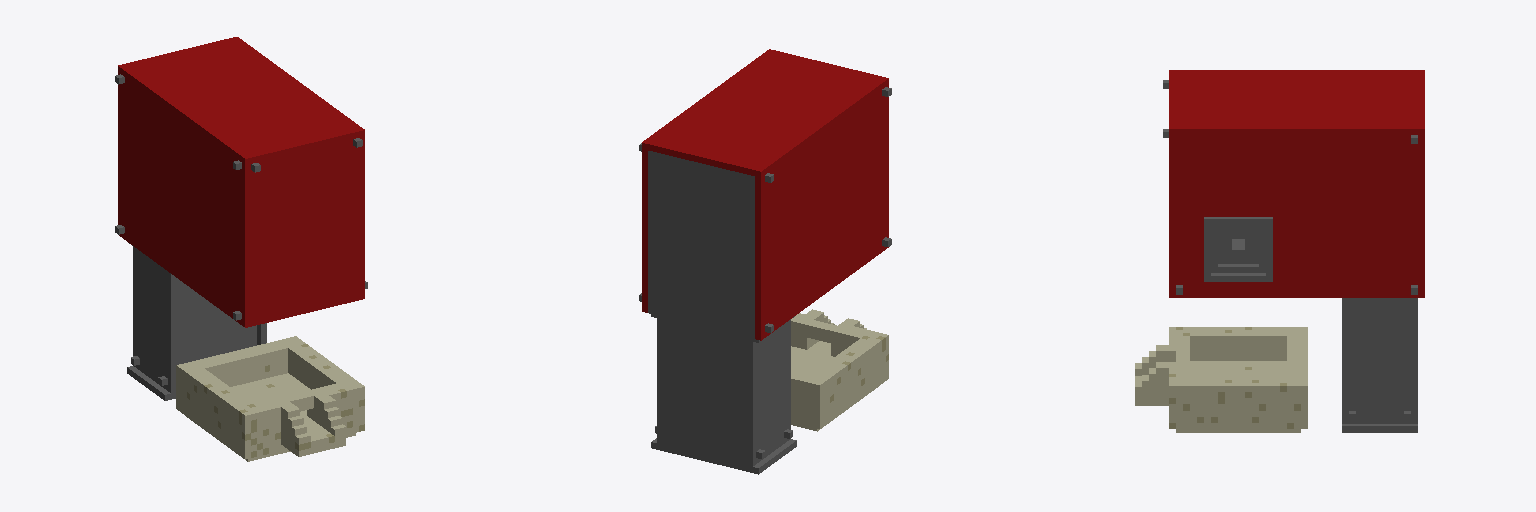
The picture shows the model from 3 angles: view 1: azimuth 30°, elevation 25°; view 2: azimuth 150°, elevation 25°; view 3: azimuth 270°, elevation 25°; orthographic projection.
Bounding box in the file's own units: 24 × 49 × 42.
1 materials, 1 textured.